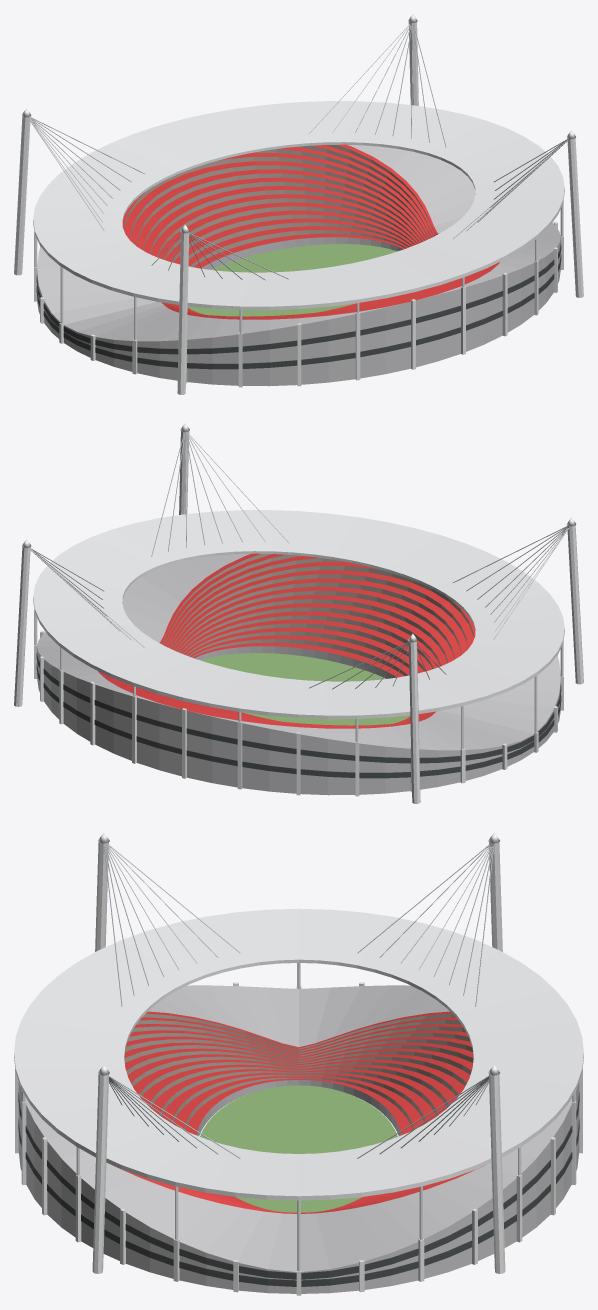
Rendered from miami_stadium.glb.
3 renders of one model, top to bottom at view 1: azimuth 30°, elevation 25°; view 2: azimuth 150°, elevation 25°; view 3: azimuth 270°, elevation 25°, orthographic. The views are drawn at different scales.
Visible parts, largest first — view 1: bowl, canopy, masts; view 2: bowl, canopy, masts; view 3: bowl, canopy, masts.
Part boxes in pixels (<box>): bowl: <box>34,144,563,387</box>; canopy: <box>33,101,564,340</box>; masts: <box>14,14,583,394</box>; bowl: <box>34,553,563,796</box>; canopy: <box>33,510,564,749</box>; masts: <box>14,423,583,803</box>; bowl: <box>15,982,582,1295</box>; canopy: <box>14,908,583,1271</box>; masts: <box>92,832,505,1273</box>.
Size of the model in its own units: 284 by 93.99 by 238.
